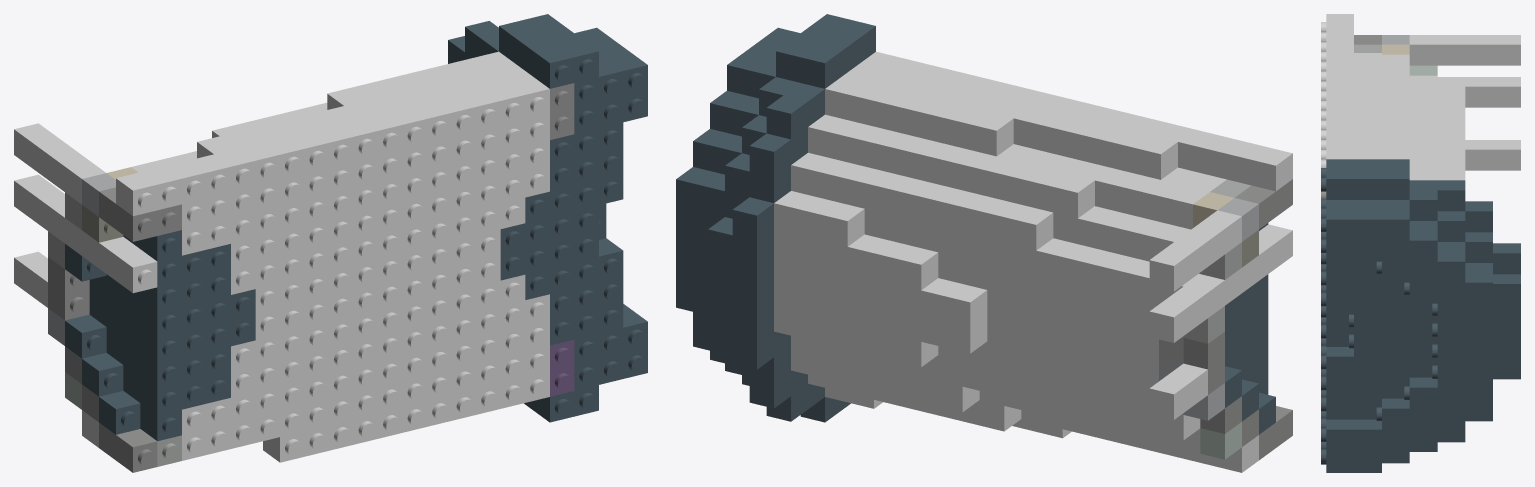
The model's file is full.glb.
The picture shows the model from 3 angles, left to right: view 1: azimuth 30°, elevation 25°; view 2: azimuth 150°, elevation 25°; view 3: azimuth 270°, elevation 25°; orthographic projection. The views are drawn at different scales.
Visible parts, largest first — view 1: world; view 2: world; view 3: world.
Part boxes in pixels (x1,y1,x2,y2): world: (14, 14, 647, 472); world: (676, 14, 1292, 472); world: (1321, 14, 1520, 472).
Size of the model in its own units: 168 by 112 by 69.
